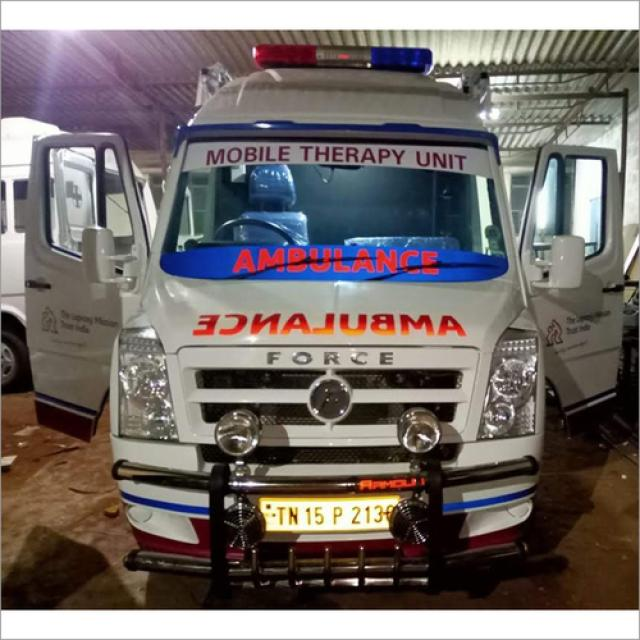Ambulance: (116, 39, 572, 586)
